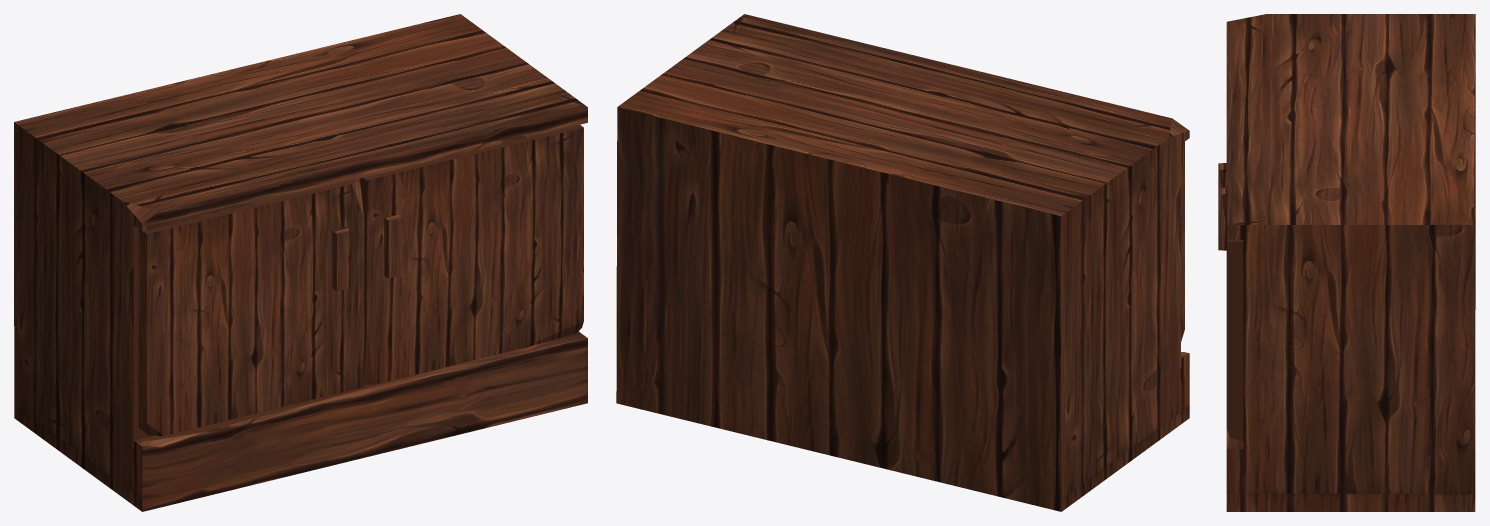
File: Cabinet_Stackable_01.fbx
3 views of the same model, side by side, from view 1: azimuth 30°, elevation 25°; view 2: azimuth 150°, elevation 25°; view 3: azimuth 270°, elevation 25° (orthographic). The views are drawn at different scales.
Visible parts, largest first — view 1: SM_Prop_Cabinet_Stackable_01, SM_Prop_Cabinet_Stackable_01_Door_2.001, SM_Prop_Cabinet_Stackable_01_Door_1.001; view 2: SM_Prop_Cabinet_Stackable_01; view 3: SM_Prop_Cabinet_Stackable_01, SM_Prop_Cabinet_Stackable_01_Door_2.001.
Boxes of the visible parts, bbox=[...] form: SM_Prop_Cabinet_Stackable_01: bbox=[14, 14, 587, 511]; SM_Prop_Cabinet_Stackable_01_Door_2.001: bbox=[384, 214, 402, 278]; SM_Prop_Cabinet_Stackable_01_Door_1.001: bbox=[332, 227, 350, 291]; SM_Prop_Cabinet_Stackable_01: bbox=[616, 14, 1189, 511]; SM_Prop_Cabinet_Stackable_01: bbox=[1226, 14, 1475, 511]; SM_Prop_Cabinet_Stackable_01_Door_2.001: bbox=[1218, 187, 1226, 250].
Bounding box in the file's own units: 144 × 91.71 × 74.51.
